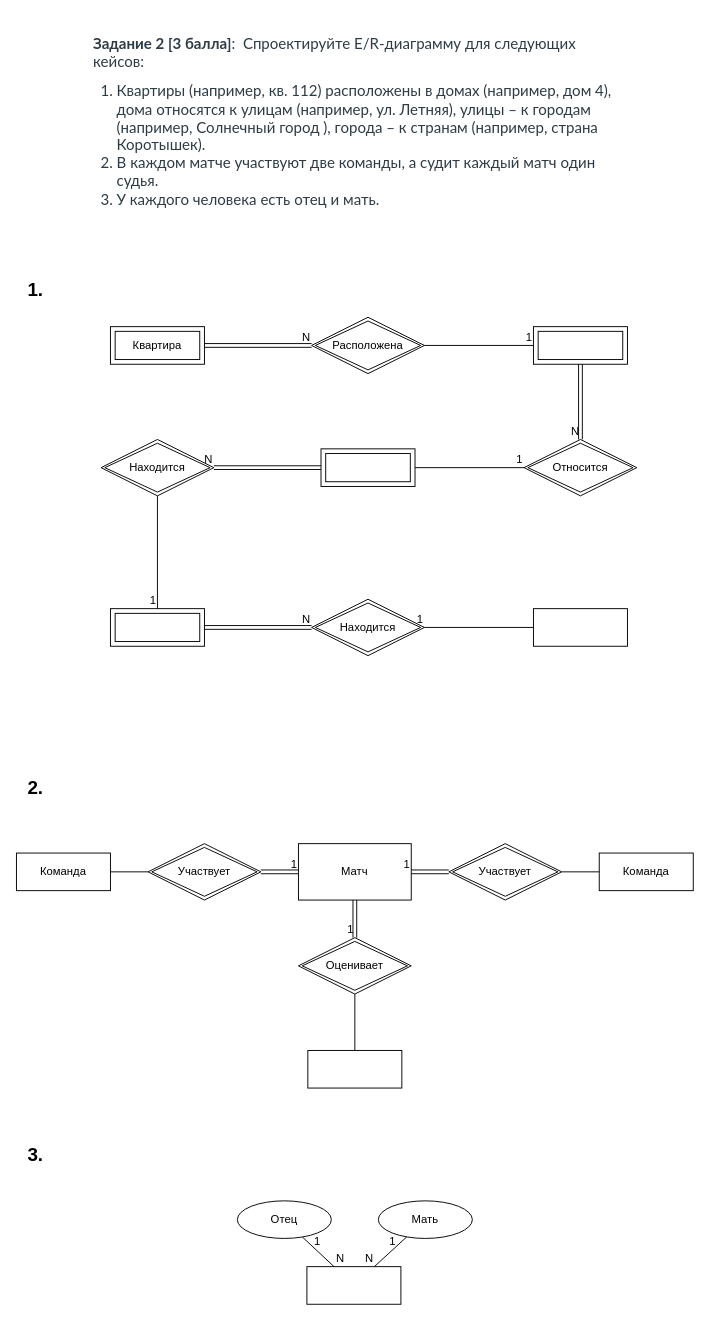
Image size: 710x1321. Some labels were removed from this diagram. The box of each missing label's shape, as (x1, y1, x2, y2) in pixels:
Город: (110, 608, 204, 646)
Дом: (533, 326, 627, 364)
Страна: (533, 608, 627, 646)
Судья: (307, 1050, 402, 1088)
Улица: (320, 448, 415, 486)
Человек: (306, 1266, 401, 1304)
